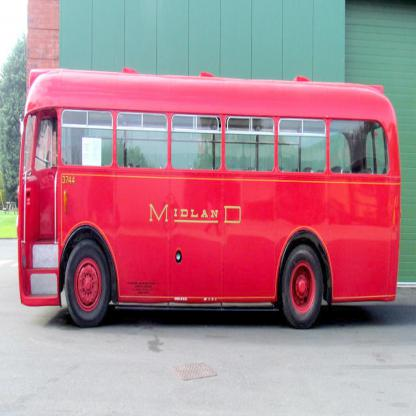Bus: (16, 68, 401, 328)
